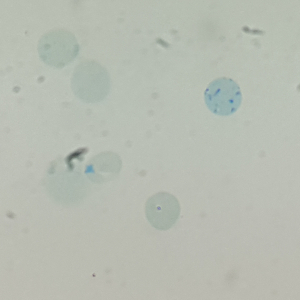aggregate reticulocyte: (203, 75, 244, 117)
erythrocyte: (69, 59, 113, 105), (36, 28, 81, 69), (143, 191, 183, 232), (82, 149, 124, 185)
